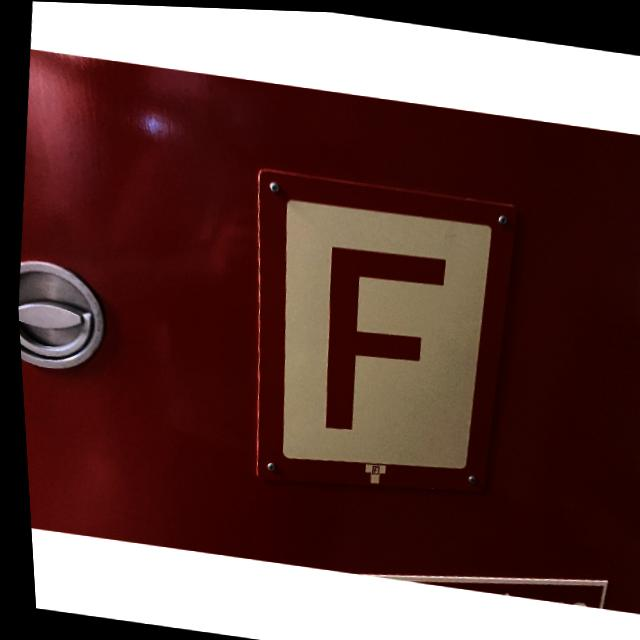fire extinguisher: (223, 164, 528, 512)
